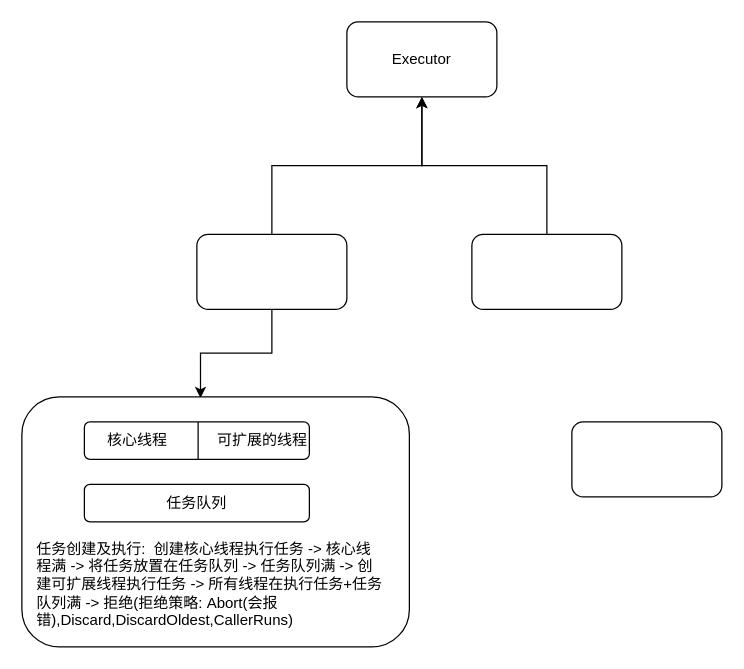
Some shapes in this 744 by 669 pixel diagram are drawn without their labels. Each missing label, with the box of its shape:
ForkJoinPool: (471, 233, 622, 309)
ThreadPoolExecutor: (196, 233, 347, 309)
